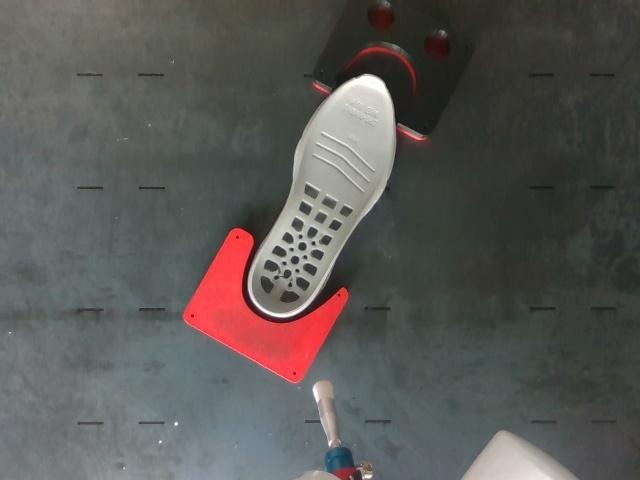shoes: (252, 76, 393, 313)
